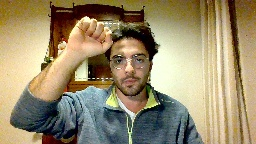Pugno: (64, 14, 114, 60)
